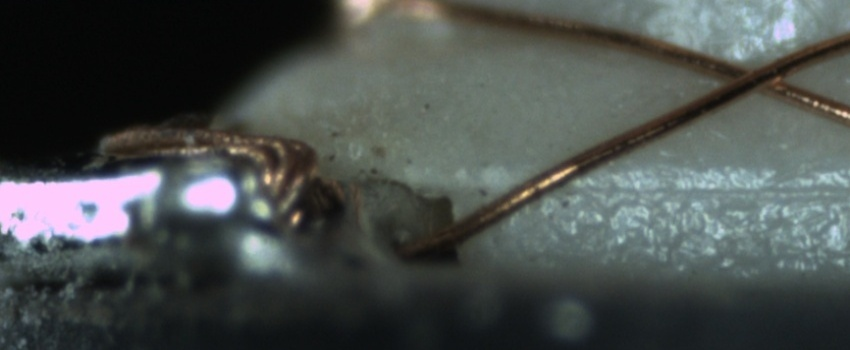CL: (712, 49, 809, 103)
DL: (547, 157, 849, 221)
TE: (94, 123, 329, 225)
